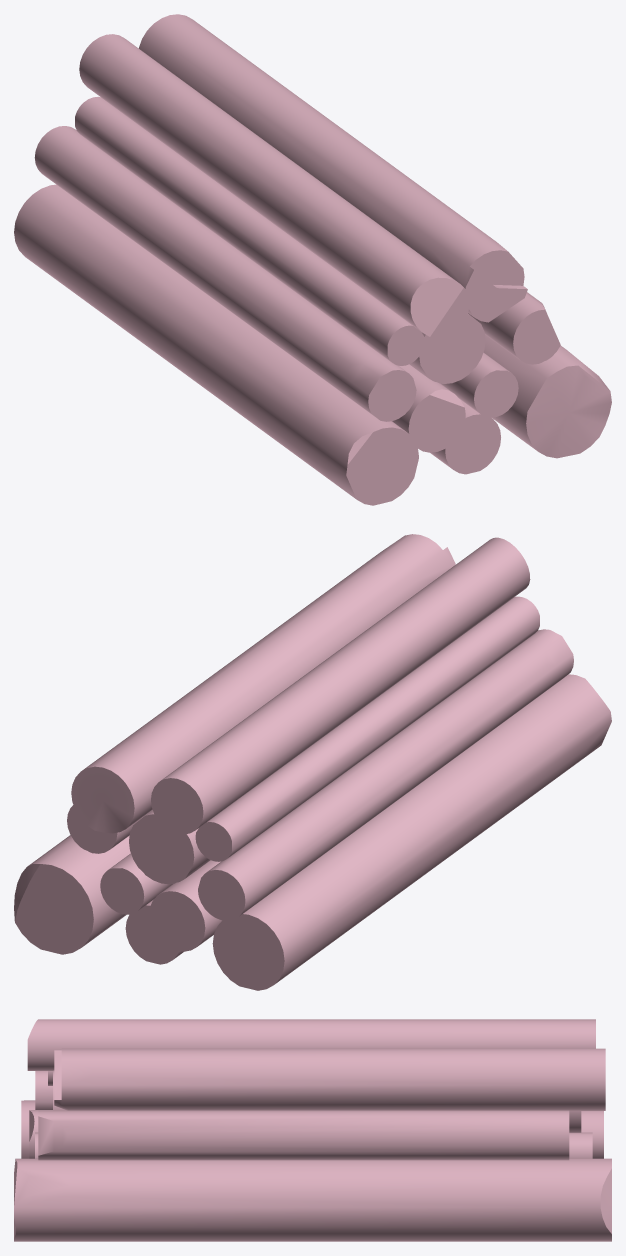
3 renders of one model, top to bottom at view 1: azimuth 30°, elevation 25°; view 2: azimuth 150°, elevation 25°; view 3: azimuth 270°, elevation 25°, orthographic. The views are drawn at different scales.
Visible parts, largest first — view 1: studio_logs.smd; view 2: studio_logs.smd; view 3: studio_logs.smd.
Part boxes in pixels (bbox=[...]): studio_logs.smd: bbox=[14, 14, 611, 505]; studio_logs.smd: bbox=[14, 534, 611, 990]; studio_logs.smd: bbox=[14, 1019, 611, 1241].
Size of the model in its own units: 150 by 113 by 352.
